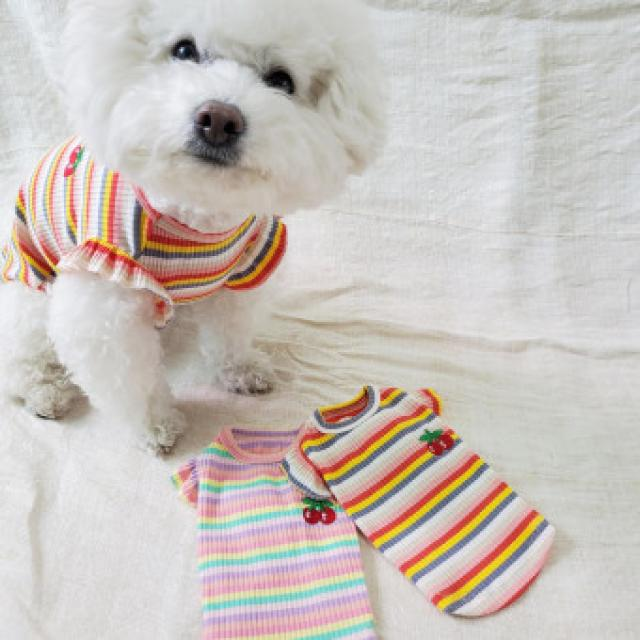cloth: (4, 138, 286, 328)
